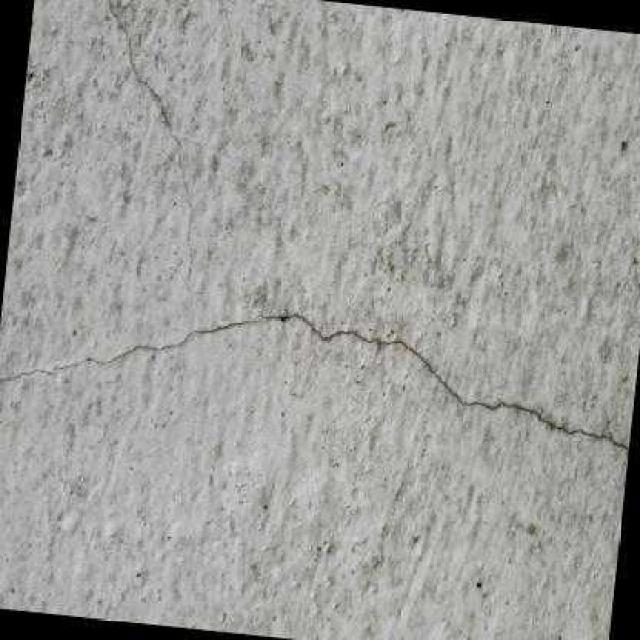D00: (0, 311, 629, 453)
